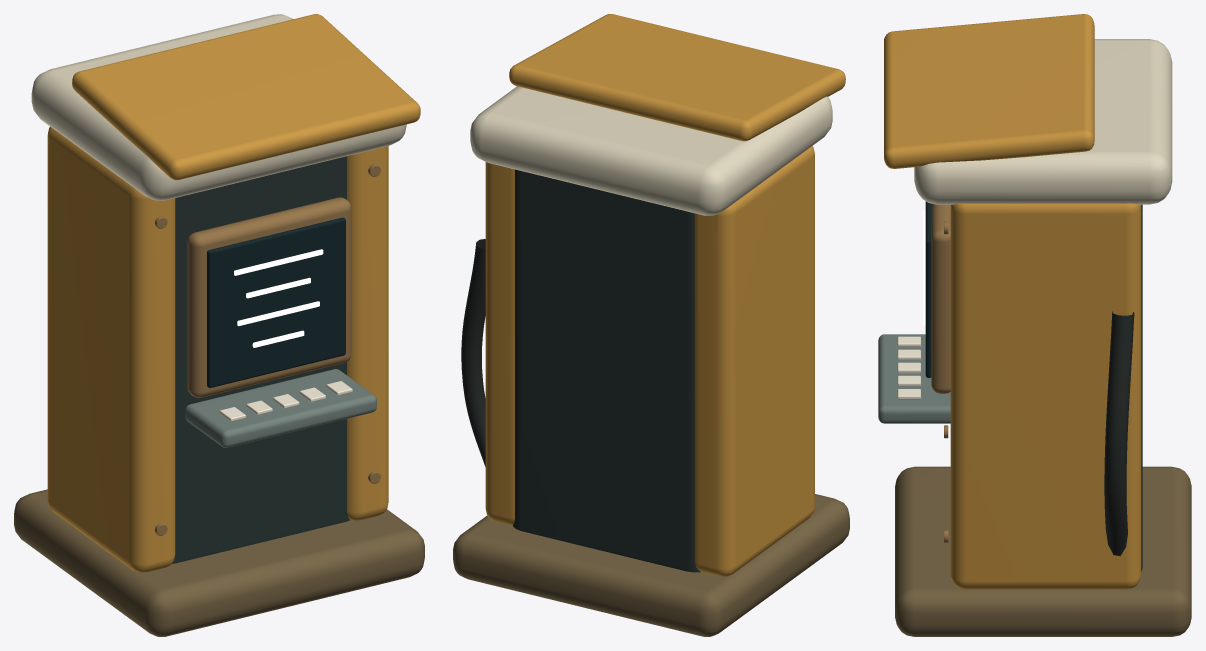
The model's file is prop_market_terminal.glb.
3 views of the same model, side by side, from view 1: azimuth 30°, elevation 25°; view 2: azimuth 150°, elevation 25°; view 3: azimuth 270°, elevation 25° (orthographic). The views are drawn at different scales.
Visible parts, largest first — view 1: Terminal pillar, Terminal awning, Terminal chassis, Terminal foundation, Screen, Terminal pillar.001, Terminal roof, Screen rim, Terminal keyboard; view 2: Terminal chassis, Terminal pillar, Terminal roof, Terminal awning, Terminal foundation, Terminal pillar.001, Terminal power line; view 3: Terminal pillar.001, Terminal awning, Terminal foundation, Terminal roof, Terminal power line, Terminal keyboard, Screen rim, Screen, Terminal chassis.
Part boxes in pixels (bbox=[...]): Terminal pillar: bbox=[47, 126, 175, 572]; Terminal awning: bbox=[72, 14, 420, 180]; Terminal chassis: bbox=[172, 156, 350, 563]; Terminal foundation: bbox=[14, 489, 424, 636]; Screen: bbox=[207, 217, 345, 387]; Terminal pillar.001: bbox=[347, 146, 388, 520]; Terminal roof: bbox=[31, 14, 406, 200]; Screen rim: bbox=[187, 197, 351, 397]; Terminal keyboard: bbox=[185, 369, 376, 447]; Terminal chassis: bbox=[513, 169, 700, 572]; Terminal pillar: bbox=[694, 146, 814, 576]; Terminal roof: bbox=[470, 86, 832, 215]; Terminal awning: bbox=[509, 14, 845, 141]; Terminal foundation: bbox=[453, 494, 849, 636]; Terminal pillar.001: bbox=[485, 162, 514, 525]; Terminal power line: bbox=[461, 239, 485, 466]; Terminal pillar.001: bbox=[950, 203, 1141, 589]; Terminal awning: bbox=[884, 14, 1094, 168]; Terminal foundation: bbox=[895, 466, 1191, 636]; Terminal roof: bbox=[914, 39, 1172, 204]; Terminal power line: bbox=[1104, 311, 1134, 555]; Terminal keyboard: bbox=[878, 334, 950, 423]; Screen rim: bbox=[931, 203, 950, 393]; Screen: bbox=[925, 201, 931, 377]; Terminal chassis: bbox=[1141, 204, 1142, 571].
Size of the model in its own units: 1.34 by 2.15 by 1.21.
